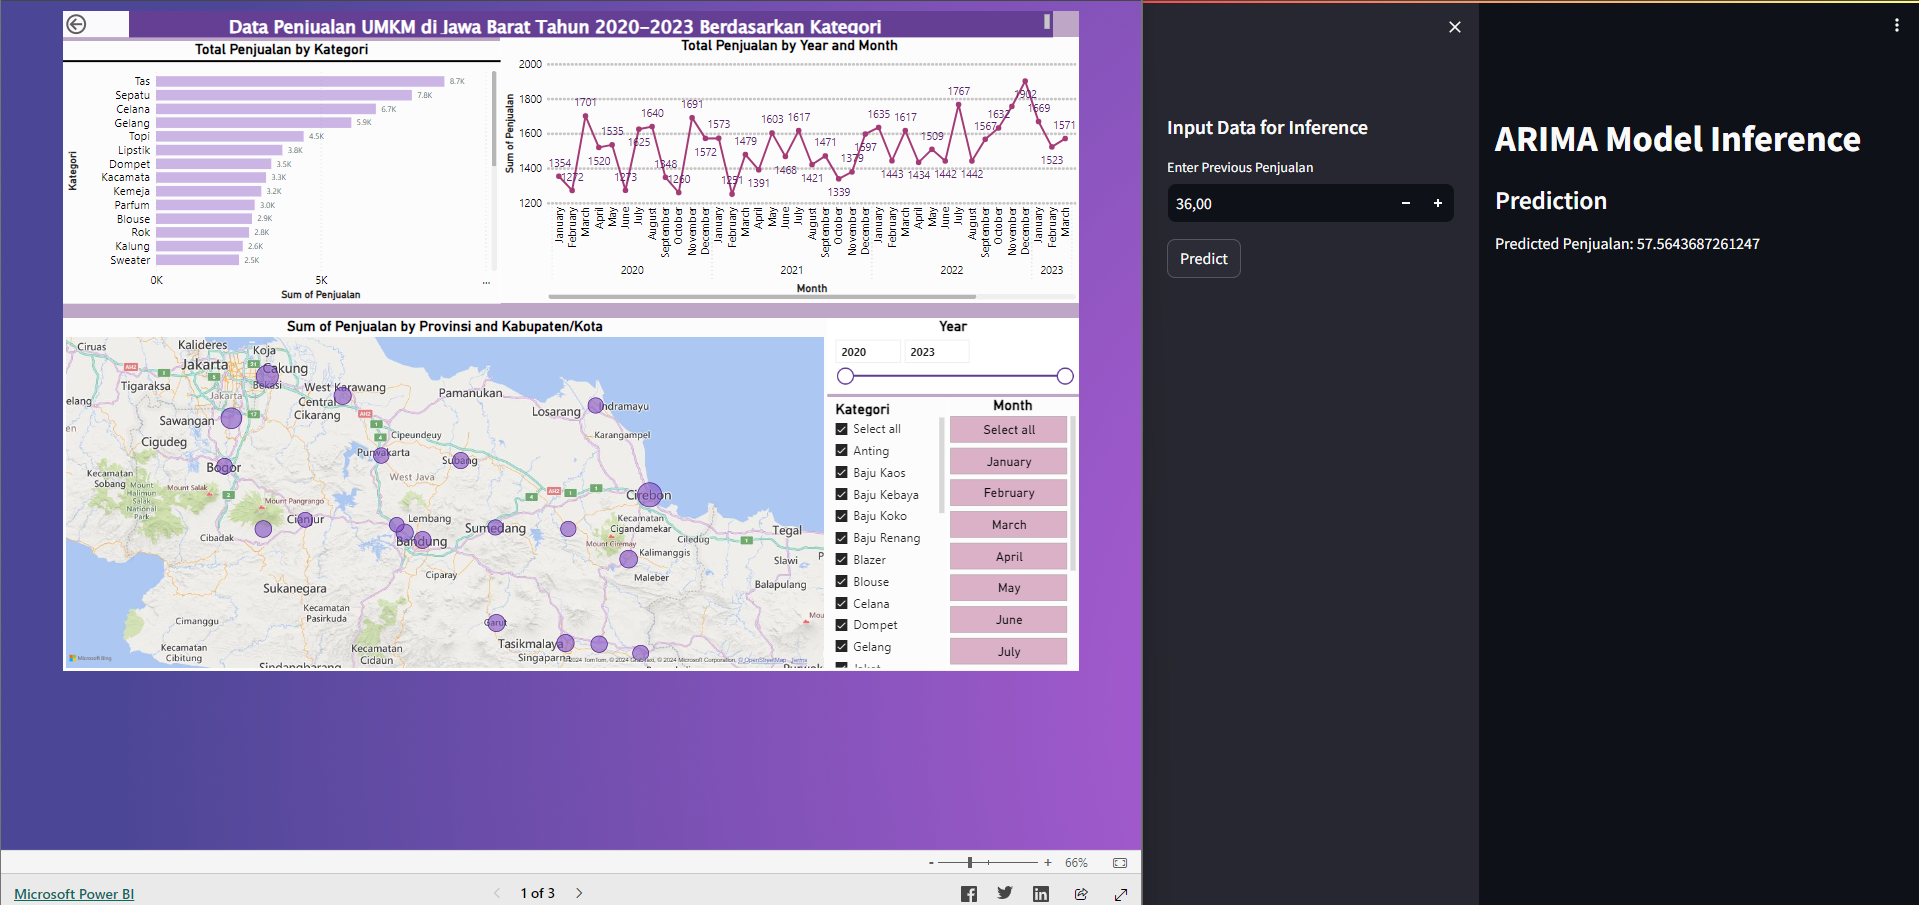

What the dashboard file says about the page in this screenshot:
{"tool":"powerbi","page":{"name":"Kategori Produk V.2","canvas":[1500,1000],"ordinal":1},"visuals":[{"type":"lineChart","title":"Total Penjualan by Year and Month","fields":{"Category":["datasetv3.Tanggal Penjualan.Variation.Date Hierarchy.Year","datasetv3.Tanggal Penjualan.Variation.Date Hierarchy.Month","datasetv2 (2).Tanggal Penjualan.Variation.Date Hierarchy.Month"],"Y":["Sum(datasetv3.Penjualan)"]},"box":[640,40,860,402.9],"z":1000},{"type":"barChart","title":"Total Penjualan by Kategori","fields":{"Category":["datasetv3.Kategori"],"Y":["Sum(datasetv3.Penjualan)"]},"box":[0,45.7,640,397.1],"z":2000},{"type":"textbox","box":[0,0,1500,40],"z":3000},{"type":"map","fields":{"Category":["datasetv3.Provinsi","datasetv3.Kabupaten/Kota"],"Size":["Sum(datasetv3.Penjualan)"]},"box":[0,442.9,1157.1,557.1],"z":4000},{"type":"slicer","fields":{"Values":["datasetv3.Kategori"]},"box":[1157.1,557.1,142.9,442.9],"z":5000},{"type":"advancedSlicerVisual","fields":{"Values":["datasetv3.Tanggal Penjualan.Variation.Date Hierarchy.Month"]},"box":[1300,557.1,200,442.9],"z":6000},{"type":"actionButton","box":[0,0,100,40],"z":7000},{"type":"slicer","title":"Year","fields":{"Values":["datasetv3.Tanggal Penjualan.Variation.Date Hierarchy.Year"]},"box":[1157.1,442.9,342.9,114.3],"z":8000}]}

Visuals, with their boxes on the page's 1500x1000 design canvas (x1, y1, x2, y2). These are canvas units, not pixel positions in the 1919x905 screenshot, which may show the page scaled, cropped or inside an application window:
"Total Penjualan by Year and Month" lineChart: [left=640, top=40, right=1500, bottom=443]
"Total Penjualan by Kategori" barChart: [left=0, top=46, right=640, bottom=443]
textbox: [left=0, top=0, right=1500, bottom=40]
map - datasetv3.Provinsi x datasetv3.Kabupaten/Kota: [left=0, top=443, right=1157, bottom=1000]
slicer - datasetv3.Kategori: [left=1157, top=557, right=1300, bottom=1000]
advancedSlicerVisual - datasetv3.Tanggal Penjualan.Variation.Date Hierarchy.Month: [left=1300, top=557, right=1500, bottom=1000]
actionButton: [left=0, top=0, right=100, bottom=40]
"Year" slicer: [left=1157, top=443, right=1500, bottom=557]
